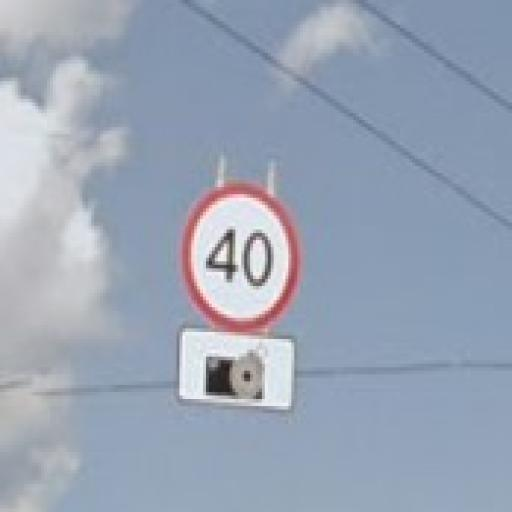traffic_sign: (181, 185, 301, 333)
